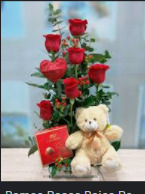RedRose: (86, 62, 111, 86), (61, 77, 81, 100), (67, 17, 87, 37), (43, 32, 61, 54), (67, 45, 84, 66), (38, 99, 53, 120)
